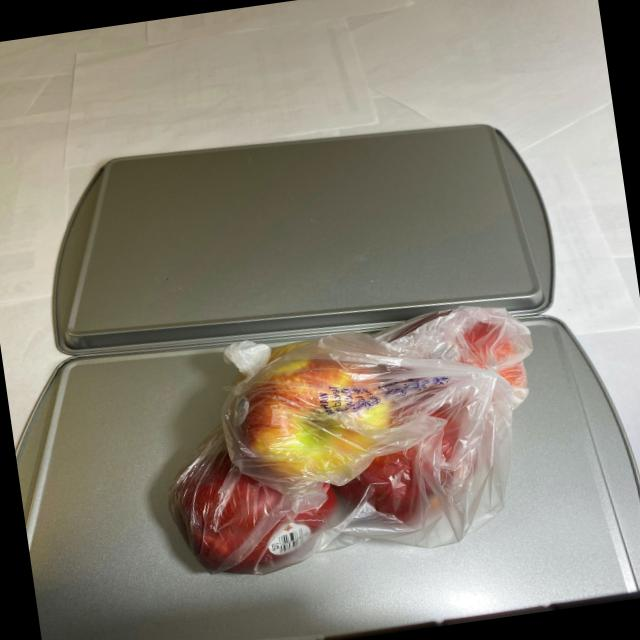apple: (144, 293, 560, 586)
